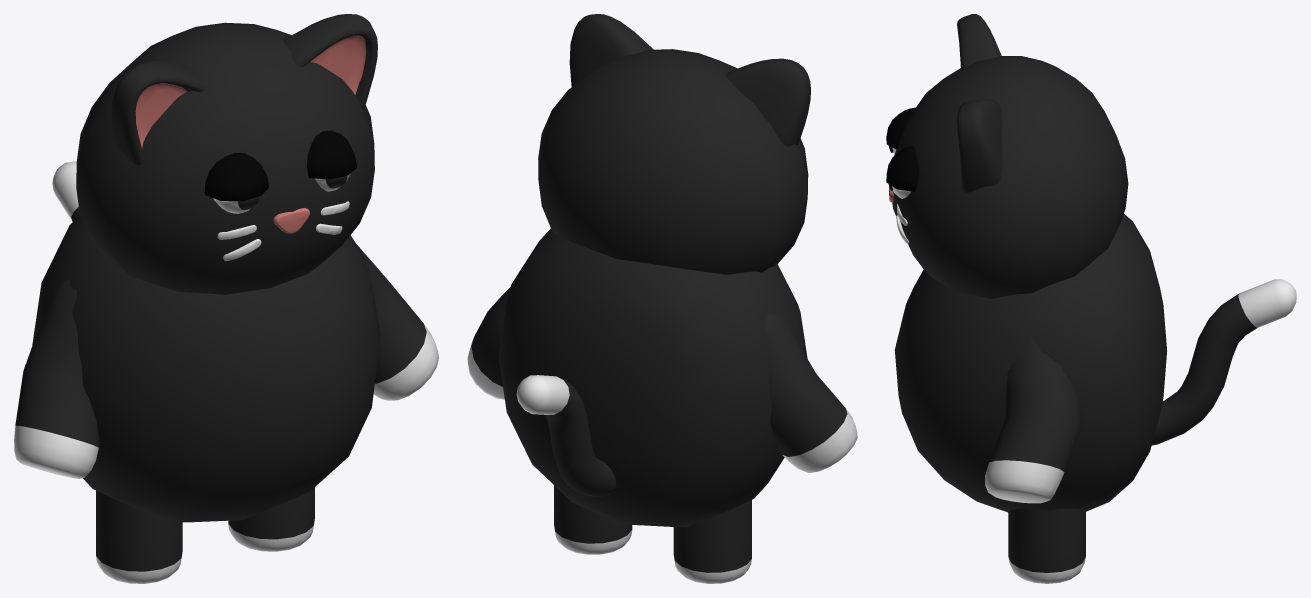
The model's file is Cat2.fbx.
The picture shows the model from 3 angles, left to right: view 1: azimuth 30°, elevation 25°; view 2: azimuth 150°, elevation 25°; view 3: azimuth 270°, elevation 25°; orthographic projection. The views are drawn at different scales.
Parts seen in each view (by area): view 1: CatBlack.001; view 2: CatBlack.001; view 3: CatBlack.001.
Boxes of the visible parts, x1,y1,x2,y2 form: CatBlack.001: (14,14,438,583); CatBlack.001: (467,14,857,583); CatBlack.001: (886,14,1296,583).
Bounding box in the file's own units: 50.98 × 63.63 × 49.13.
